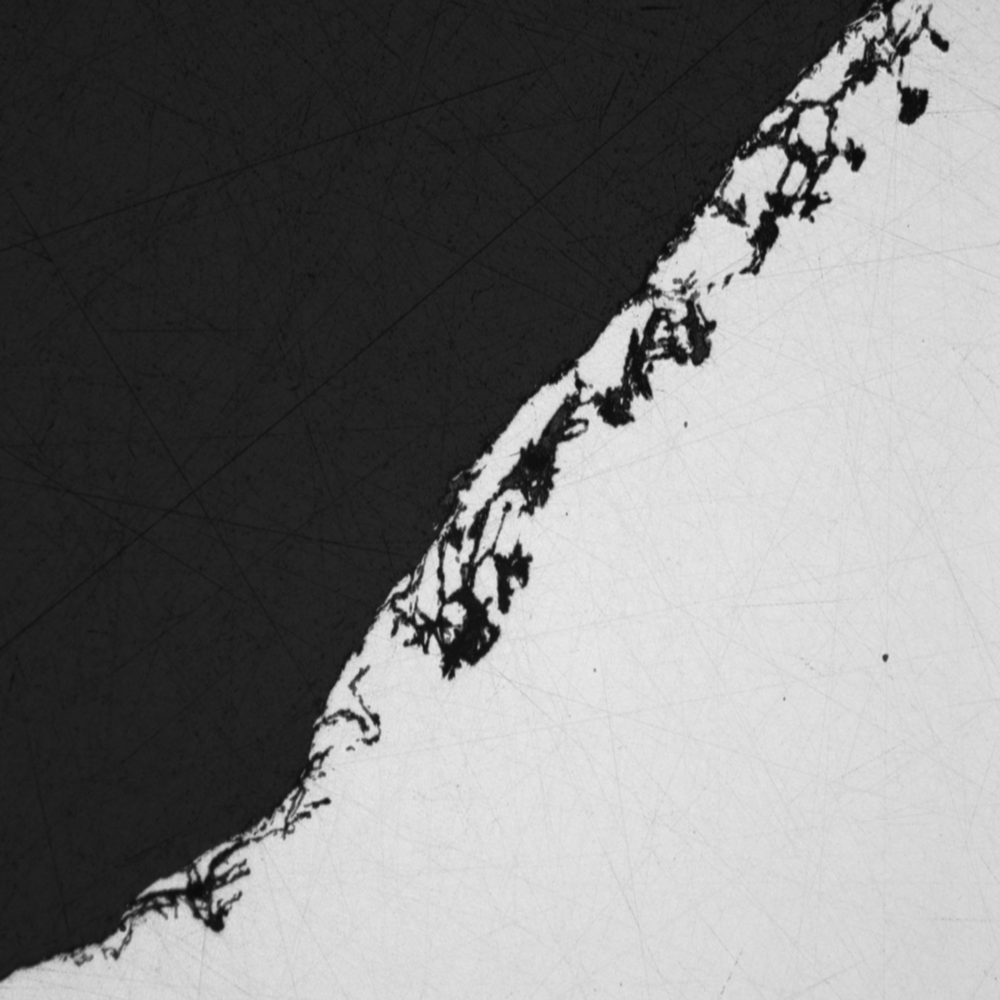crack: (74, 1, 950, 973)
